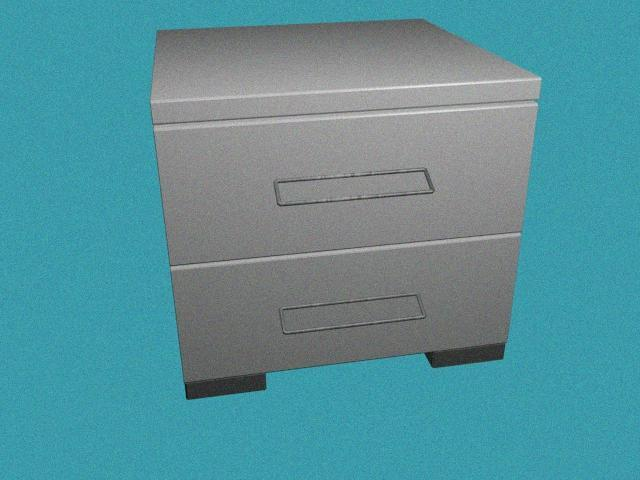cabinet_door: (162, 118, 530, 248), (178, 253, 513, 364)
handle: (276, 289, 429, 338), (271, 167, 440, 211)
